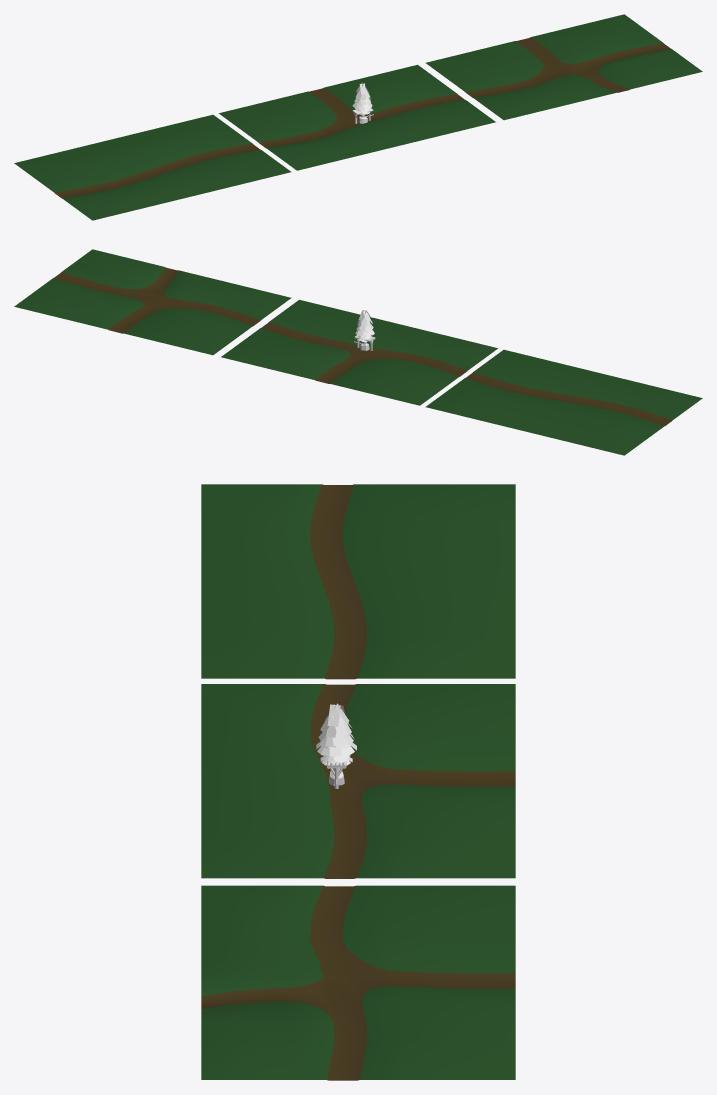
File: BosAssets.fbx
The picture shows the model from 3 angles, top to bottom: view 1: azimuth 30°, elevation 25°; view 2: azimuth 150°, elevation 25°; view 3: azimuth 270°, elevation 25°; orthographic projection. The views are drawn at different scales.
Visible parts, largest first — view 1: 3way, 1way, 2way, BoomGroot; view 2: 3way, 1way, 2way, BoomGroot; view 3: 1way, 3way, 2way, BoomGroot.
Boxes of the visible parts, x1,y1,x2,y2 form: 3way: (425,14,702,120); 1way: (14,114,291,220); 2way: (219,64,495,170); BoomGroot: (352,82,372,117); 3way: (14,249,291,355); 1way: (425,349,702,455); 2way: (221,299,497,405); BoomGroot: (355,310,374,344); 1way: (201,484,515,679); 3way: (201,885,515,1080); 2way: (201,684,515,878); BoomGroot: (316,703,356,771).
Bounding box in the file's own units: 68.83 × 4.27 × 15.34.
